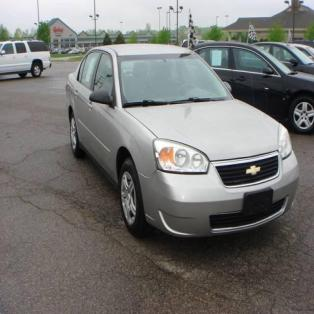Auto: (66, 47, 298, 238)
